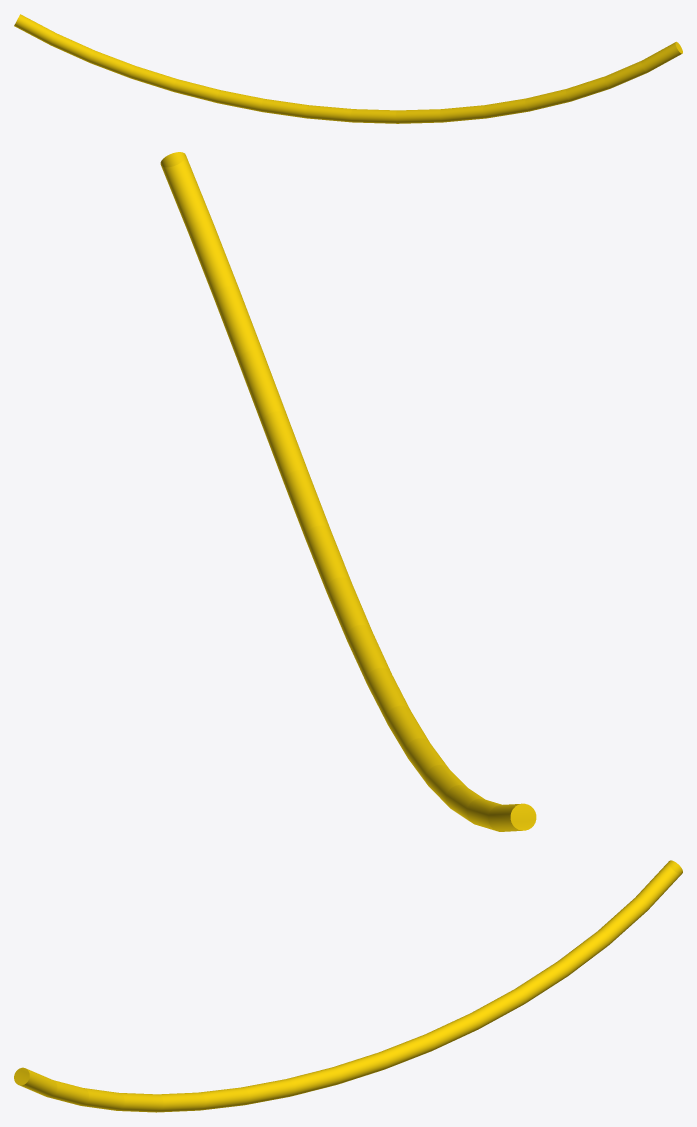
The model's file is Event_421115418_track_115.fbx.
3 renders of one model, top to bottom at view 1: azimuth 30°, elevation 25°; view 2: azimuth 150°, elevation 25°; view 3: azimuth 270°, elevation 25°, orthographic. The views are drawn at different scales.
Parts seen in each view (by area): view 1: Model; view 2: Model; view 3: Model.
Boxes of the visible parts, bbox=[...] form: Model: bbox=[14, 14, 682, 123]; Model: bbox=[160, 152, 536, 831]; Model: bbox=[14, 860, 682, 1112].
Bounding box in the file's own units: 1.46 × 0.3758 × 1.47.
